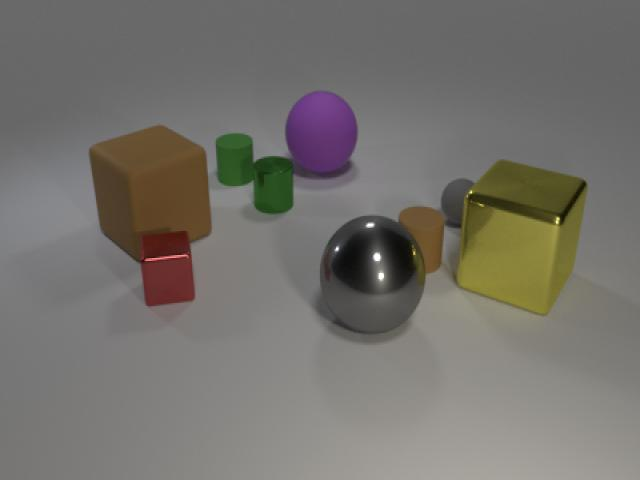cylinder: (392, 199, 447, 279), (249, 152, 296, 222), (213, 128, 256, 188)
round ball: (312, 206, 430, 341), (282, 84, 361, 181), (438, 172, 483, 230)
